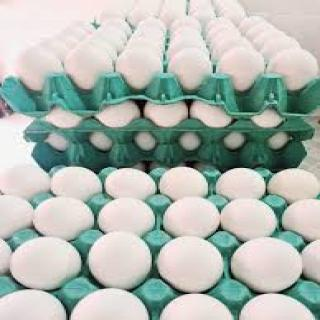Egg: (0, 158, 320, 308), (19, 8, 320, 108)
